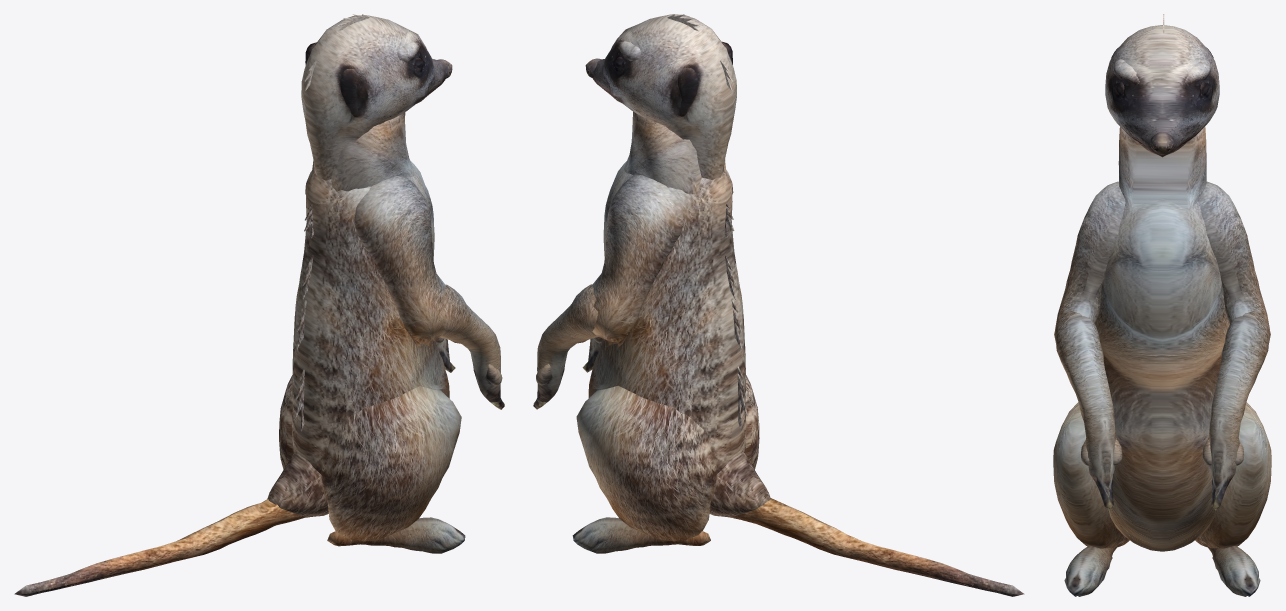
File: meerkat.dae
The picture shows the model from 3 angles, left to right: view 1: azimuth 30°, elevation 25°; view 2: azimuth 150°, elevation 25°; view 3: azimuth 270°, elevation 25°; orthographic projection. The views are drawn at different scales.
Parts seen in each view (by area): view 1: MDL_OBJ; view 2: MDL_OBJ; view 3: MDL_OBJ.
Part boxes in pixels (x1=…): MDL_OBJ: x1=14, y1=14, x2=504, y2=596; MDL_OBJ: x1=533, y1=14, x2=1024, y2=596; MDL_OBJ: x1=1053, y1=14, x2=1271, y2=596.
Bounding box in the file's own units: 118 × 127 × 45.41.
1 material, 1 textured.
